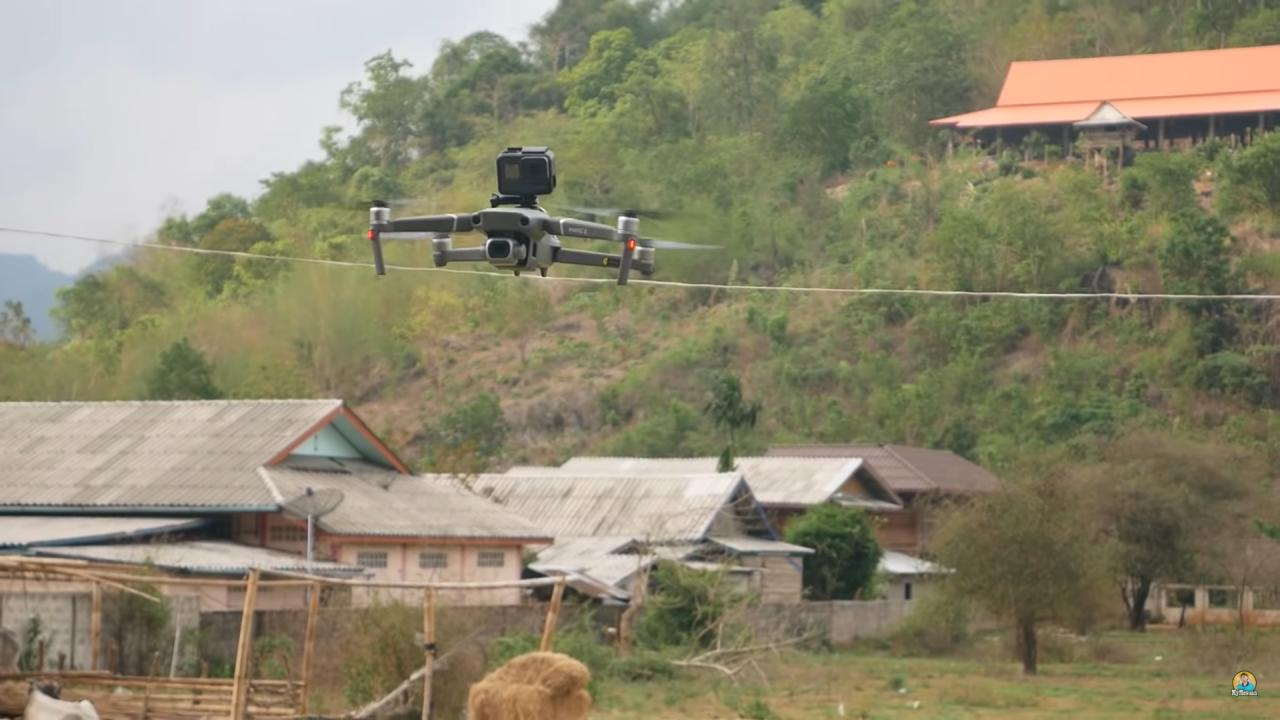Drone: (295, 124, 750, 312)
